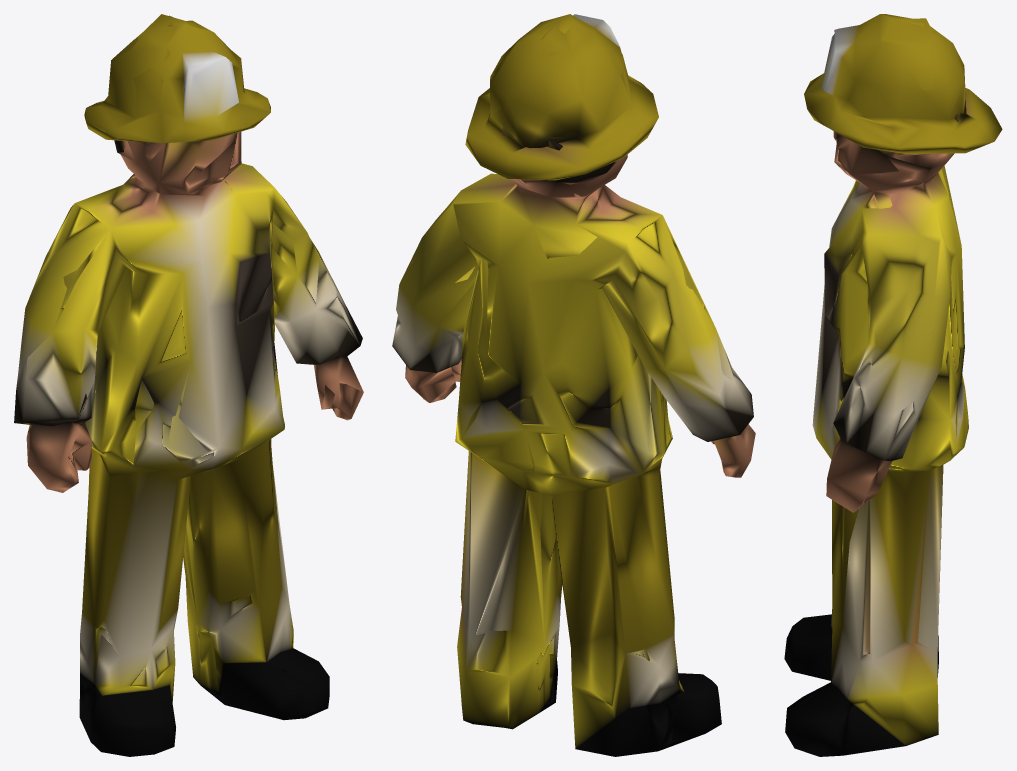
The model's file is gen3d-firefighter-lod1.glb.
3 renders of one model, left to right at view 1: azimuth 30°, elevation 25°; view 2: azimuth 150°, elevation 25°; view 3: azimuth 270°, elevation 25°, orthographic. The views are drawn at different scales.
Parts seen in each view (by area): view 1: part_0; view 2: part_0; view 3: part_0.
Part boxes in pixels (<box>): part_0: <box>14,14,363,756</box>; part_0: <box>392,14,755,756</box>; part_0: <box>784,14,1002,756</box>.
Bounding box in the file's own units: 0.5235 × 0.9991 × 0.2875.
